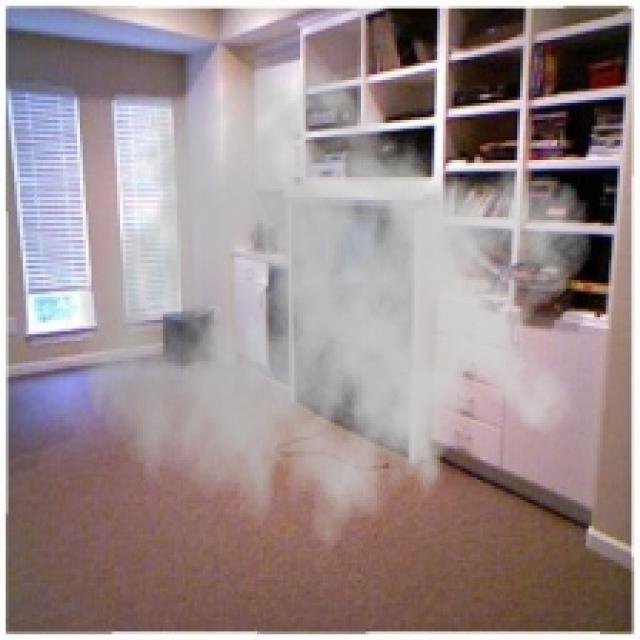smoke: (77, 31, 594, 580)
